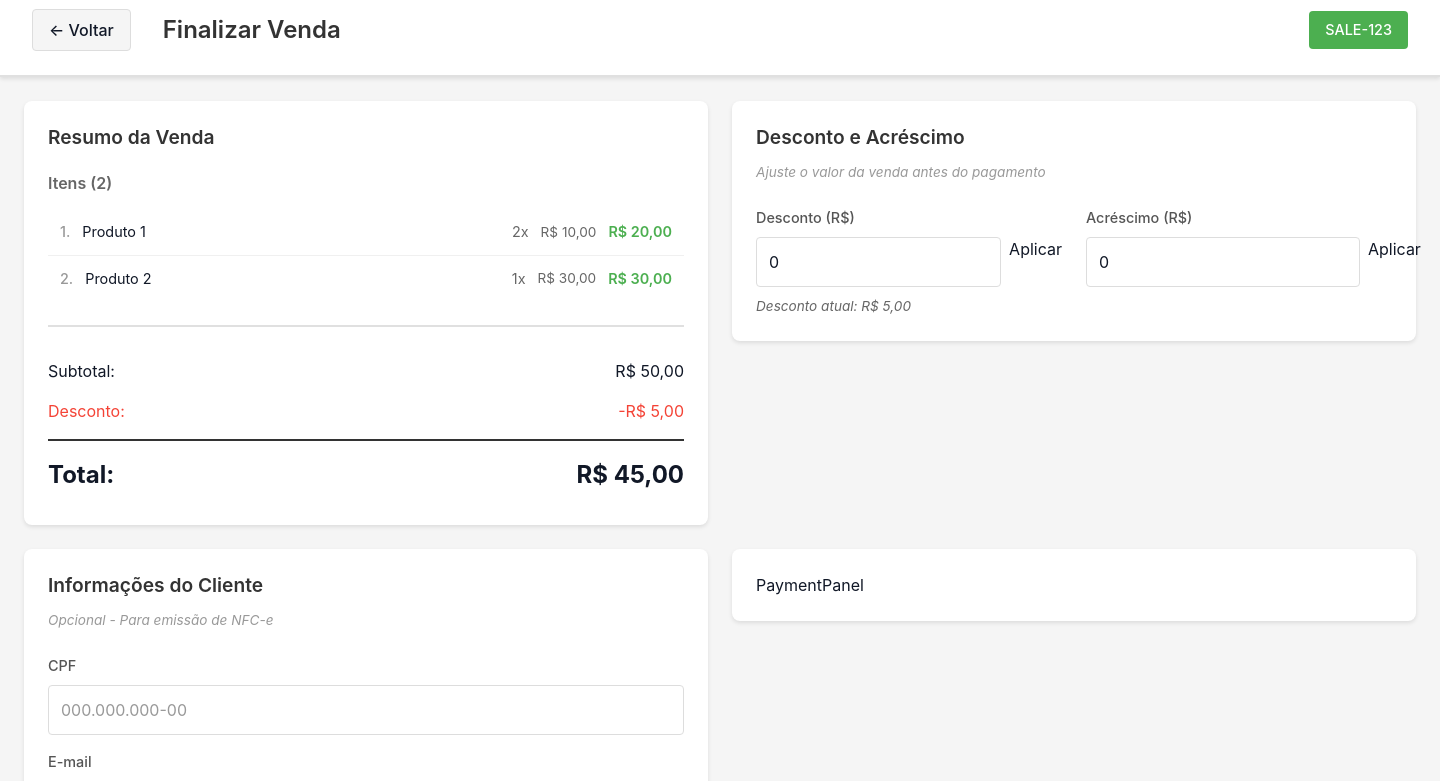
Test: POSCheckoutView › Customer Information › should validate invalid CPF
Type "123" into the field with id "cpf" at (366, 710), box [48,685,684,735]
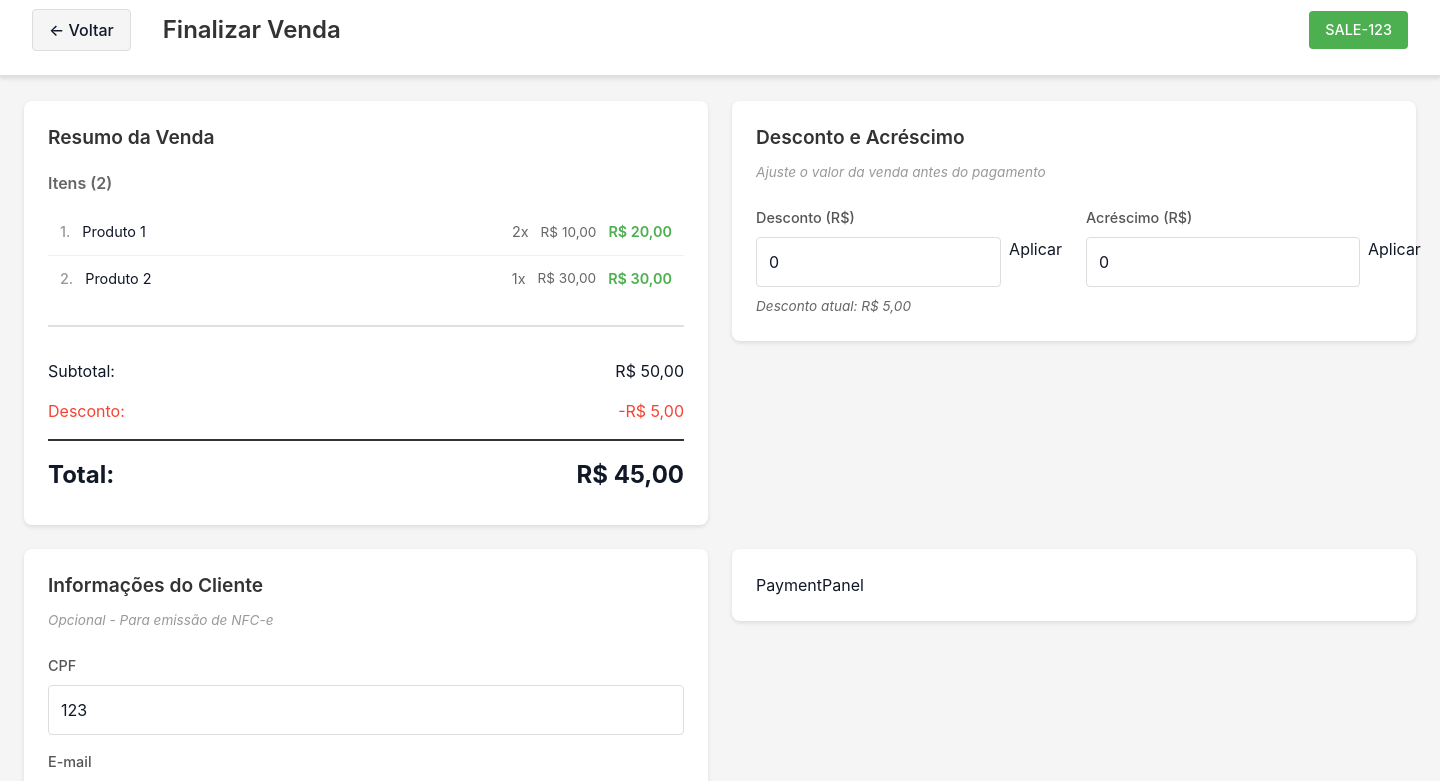
Leave the field with id "cpf", box [48,685,684,735]
(page scrolled)
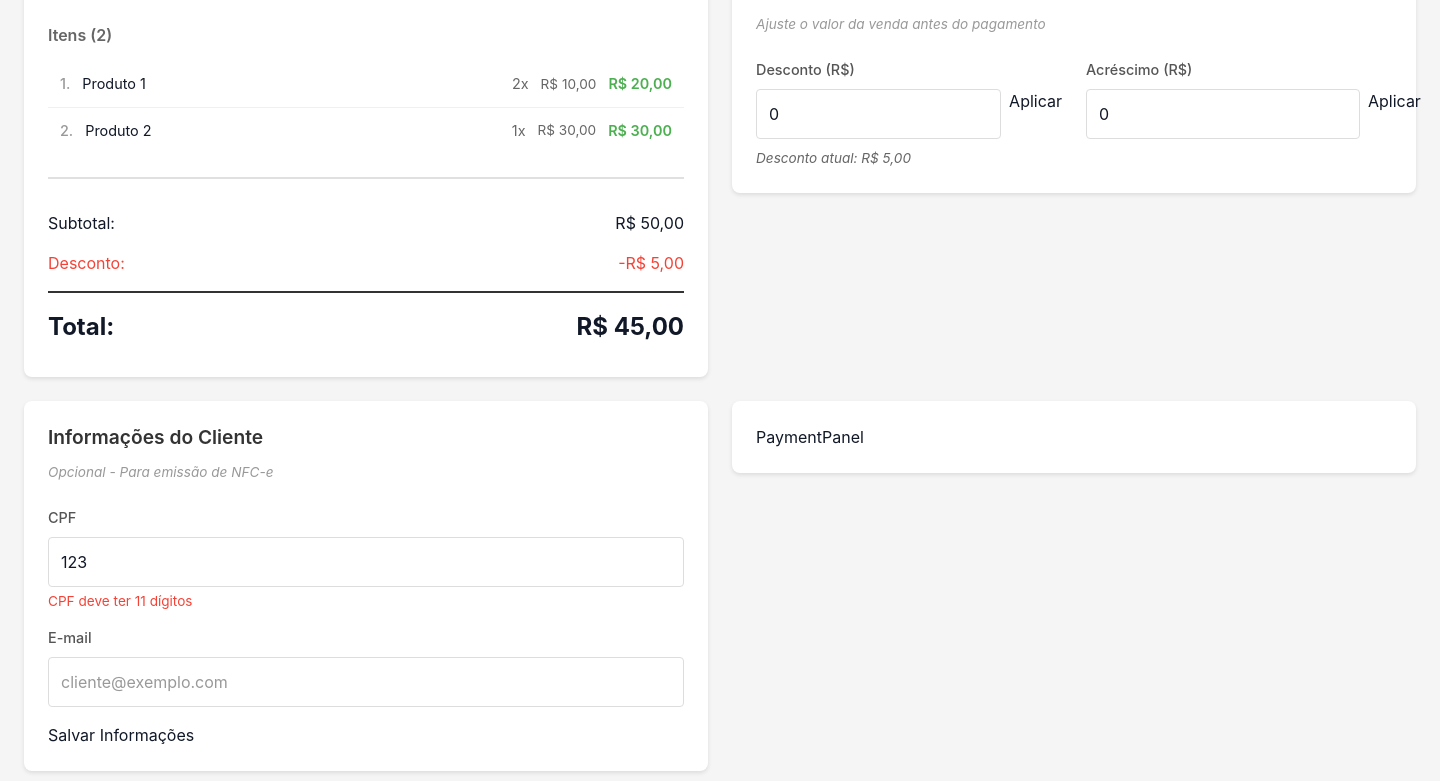
Expected: the text "CPF deve ter 11 dígitos" is shown, [48,593,192,609]
